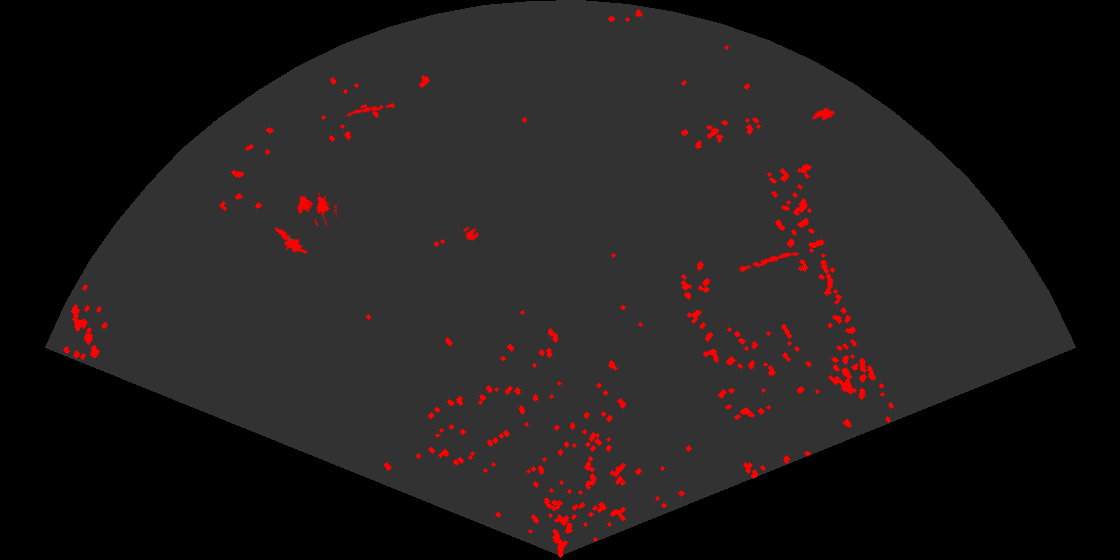AUV: (810, 106, 837, 122)
ball: (461, 225, 480, 242)
cage: (296, 191, 337, 226)
chain: (735, 250, 801, 274), (343, 101, 395, 118)
frogman: (268, 225, 307, 255)
